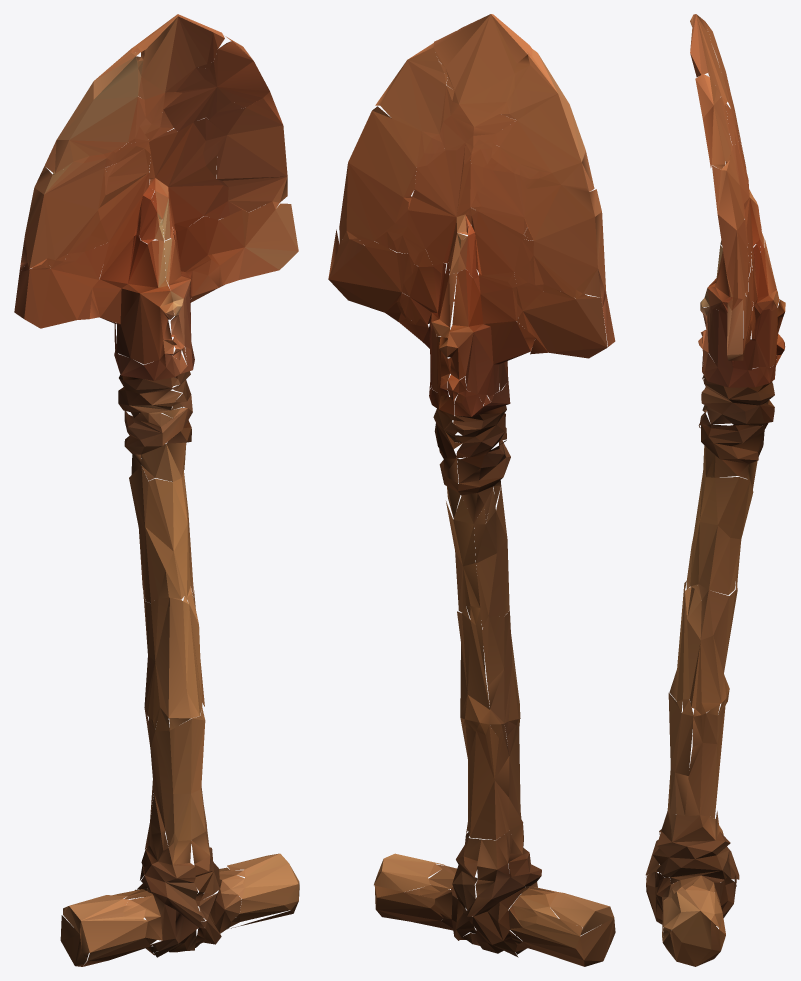
File: copperShovel.glb
The picture shows the model from 3 angles, left to right: view 1: azimuth 30°, elevation 25°; view 2: azimuth 150°, elevation 25°; view 3: azimuth 270°, elevation 25°; orthographic projection. The views are drawn at different scales.
Parts seen in each view (by area): view 1: 0_copperShovel; view 2: 0_copperShovel; view 3: 0_copperShovel.
Part boxes in pixels (x1=…): 0_copperShovel: x1=14, y1=14, x2=299, y2=966; 0_copperShovel: x1=328, y1=14, x2=615, y2=966; 0_copperShovel: x1=645, y1=14, x2=785, y2=966.
Bounding box in the file's own units: 0.3 × 0.9636 × 0.1347.
